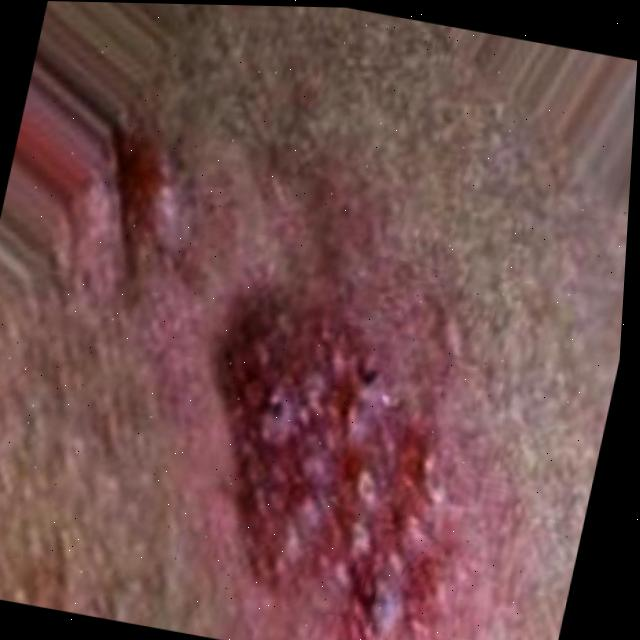Shingles: (158, 293, 513, 640)
